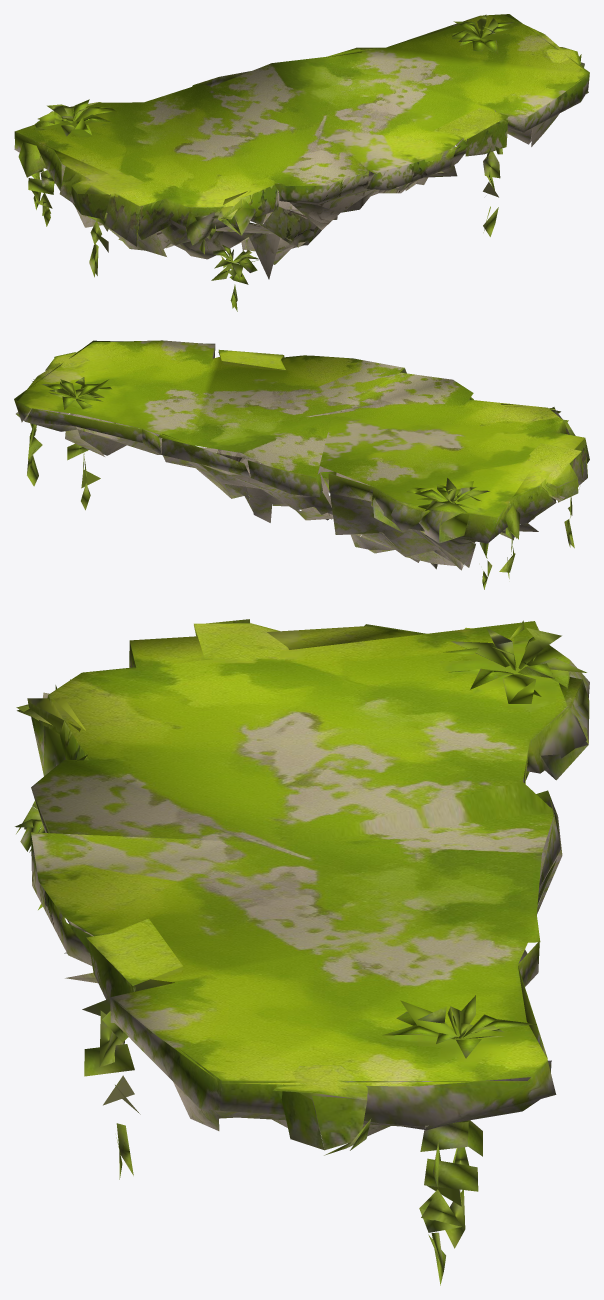
Rendered from Ledge.fbx.
The picture shows the model from 3 angles, top to bottom: view 1: azimuth 30°, elevation 25°; view 2: azimuth 150°, elevation 25°; view 3: azimuth 270°, elevation 25°; orthographic projection. The views are drawn at different scales.
Visible parts, largest first — view 1: Ledge; view 2: Ledge; view 3: Ledge.
Boxes of the visible parts, <box> form: Ledge: <box>14,14,589,311</box>; Ledge: <box>14,340,589,589</box>; Ledge: <box>15,619,589,1285</box>.
Size of the model in its own units: 2 by 0.4785 by 0.9826.
1 material, 1 textured.
